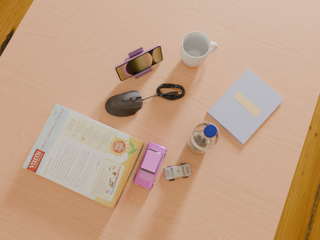book: (207, 69, 284, 144)
bottle: (188, 122, 220, 154)
box: (23, 104, 144, 209)
cup: (181, 31, 217, 67)
mouse: (105, 91, 145, 117)
phone: (115, 45, 163, 81)
toy_car: (134, 142, 167, 190), (163, 163, 192, 181)
